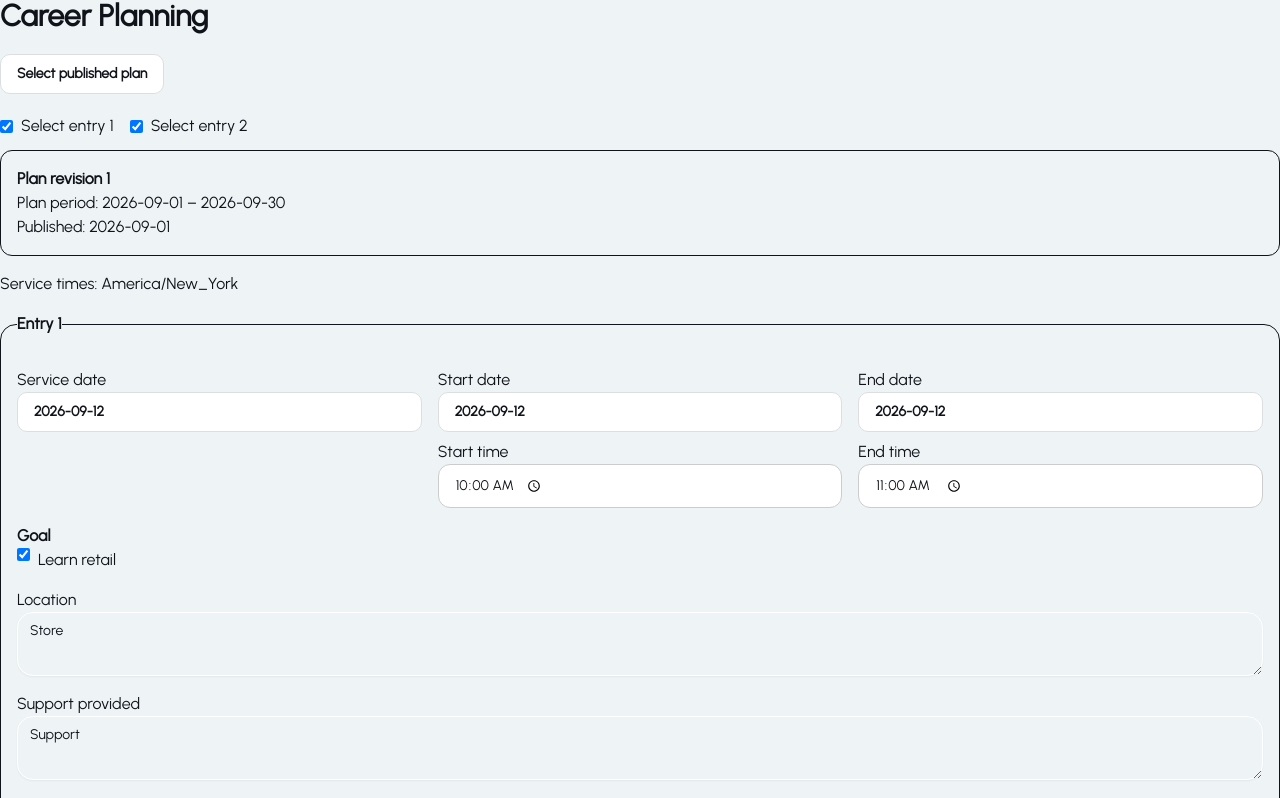
it: adopts returned active rows after an unknown submission is replayed without changing unsent selections
Click the checkbox labelled "Select entry 2".
click(136, 126)  # box [130,120,143,132]
(page scrolled)
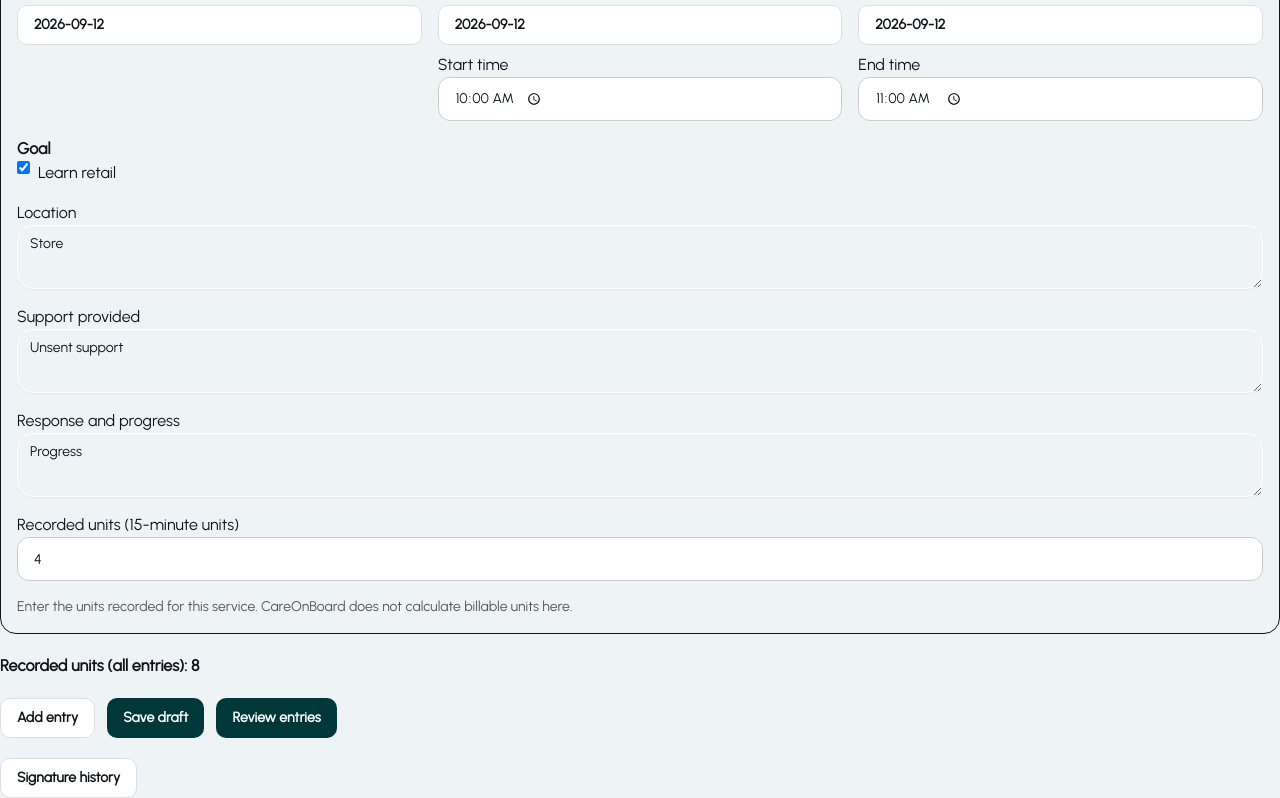
Click the button "Review entries".
click(277, 718)  # box [216,698,337,738]
(page scrolled)
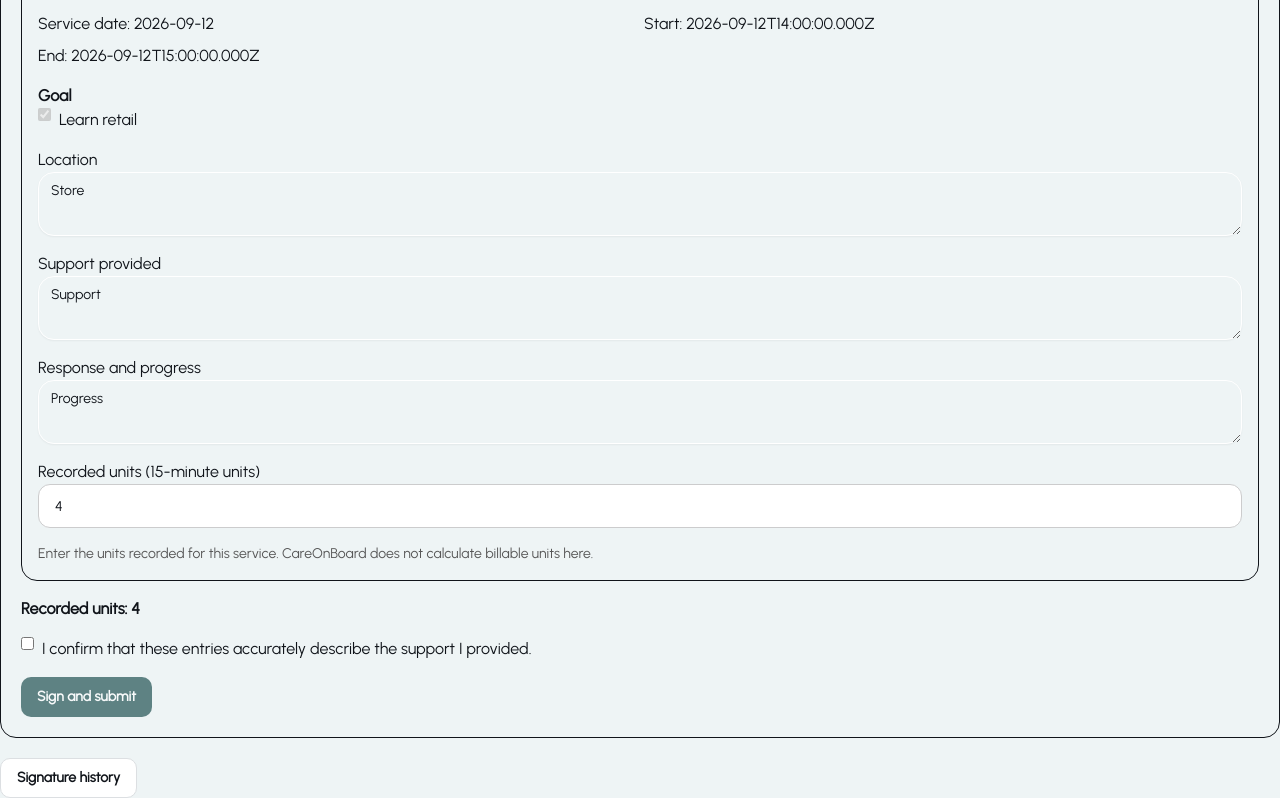
Click the checkbox labelled "I confirm that these entries accurately describe the support I provided.".
click(28, 644)  # box [21,637,34,650]
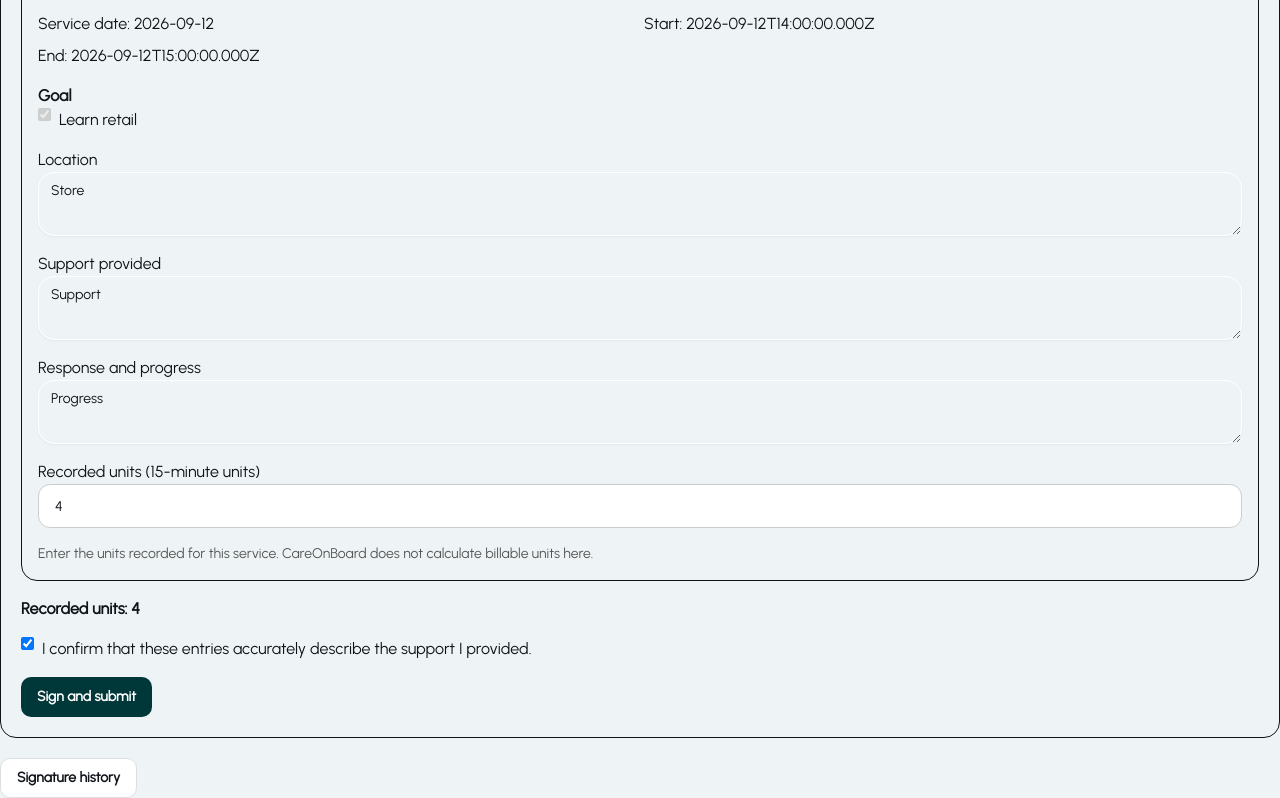
Click the button "Sign and submit".
click(86, 697)  # box [21,677,152,717]
(page scrolled)
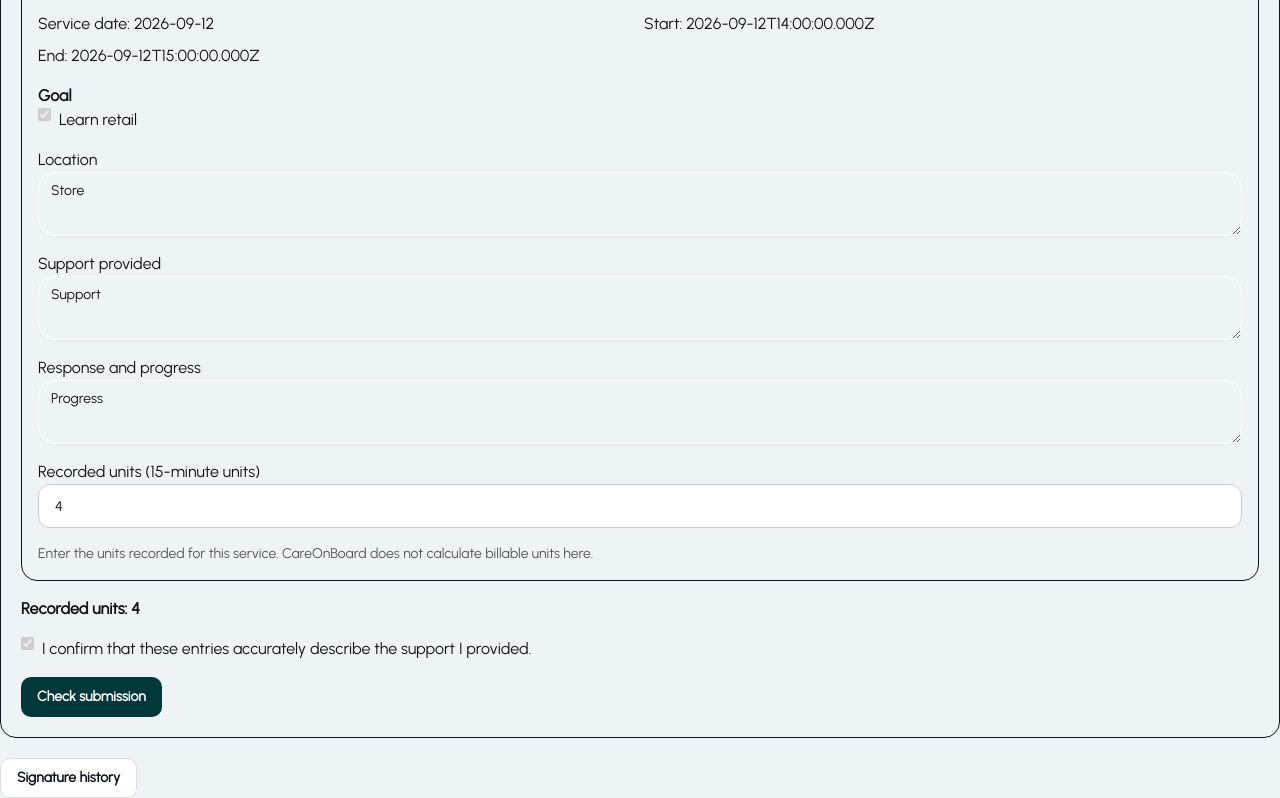
Now the button "Check submission" is shown
Click the button "Check submission".
click(91, 697)  # box [21,677,162,717]
(page scrolled)
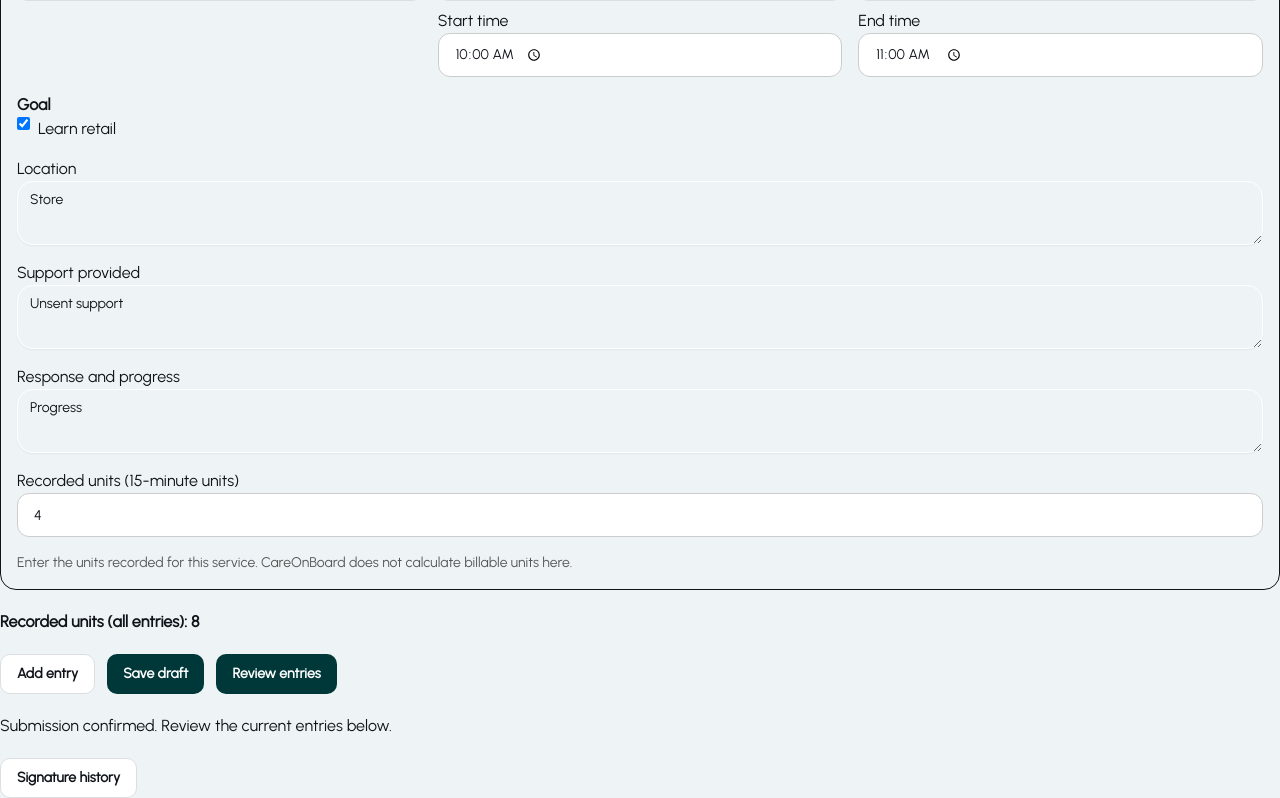
Now the button "Review entries" is enabled, box [216,654,337,694]
